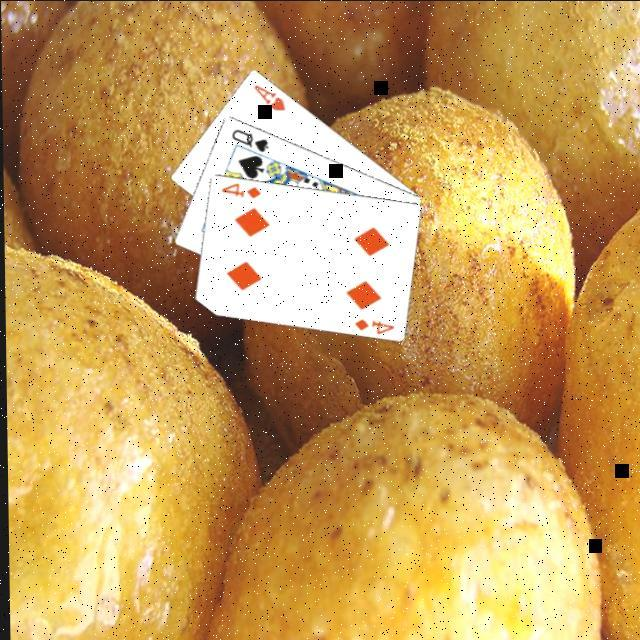4D: (218, 177, 263, 199), (351, 314, 396, 334)
AH: (250, 79, 289, 112)
QS: (228, 124, 271, 153)
